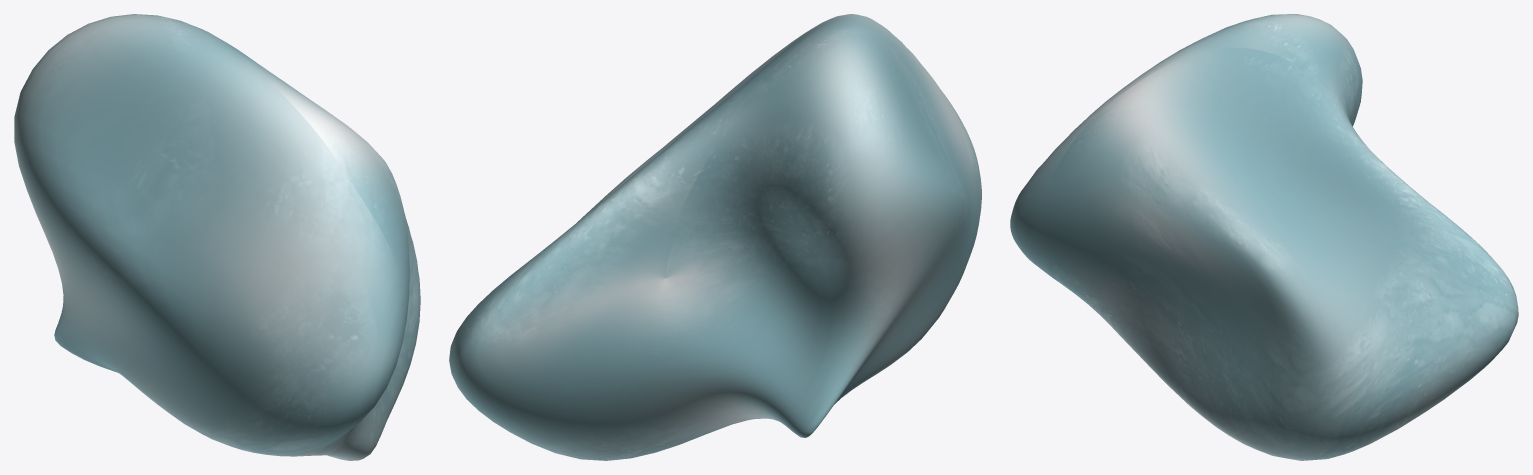
File: iceberg.fbx
3 renders of one model, left to right at view 1: azimuth 30°, elevation 25°; view 2: azimuth 150°, elevation 25°; view 3: azimuth 270°, elevation 25°, orthographic. The views are drawn at different scales.
Visible parts, largest first — view 1: Sphere01; view 2: Sphere01; view 3: Sphere01.
Part boxes in pixels (x1=…): Sphere01: x1=14, y1=14, x2=420, y2=460; Sphere01: x1=449, y1=14, x2=981, y2=460; Sphere01: x1=1010, y1=14, x2=1518, y2=460.
Bounding box in the file's own units: 157 × 167 × 214.
